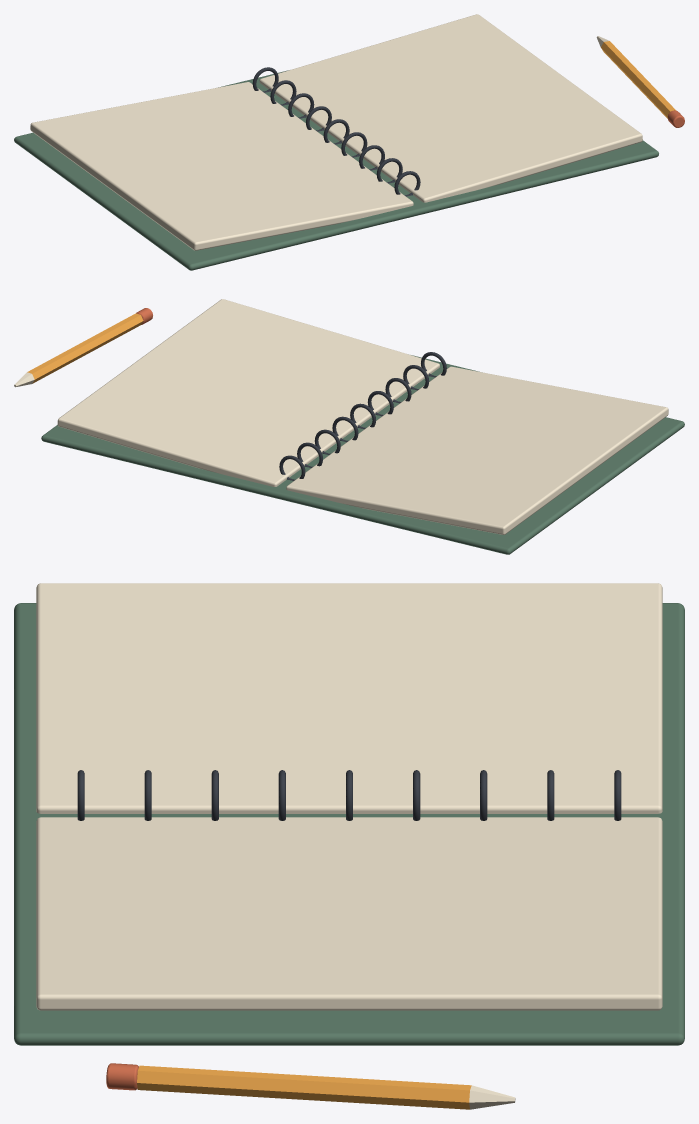
File: sketchbook.glb
3 views of the same model, one above another, from view 1: azimuth 30°, elevation 25°; view 2: azimuth 150°, elevation 25°; view 3: azimuth 270°, elevation 25° (orthographic). The views are drawn at different scales.
Visible parts, largest first — view 1: SketchPages.001, PageLeft, SketchCover, SketchPages, PencilBody; view 2: SketchPages.001, PageLeft, SketchCover, SketchPages, PencilBody; view 3: PageLeft, SketchPages.001, SketchCover, SketchPages, PencilBody, PencilEraser.
Part boxes in pixels (<box>): SketchPages.001: <box>259,14,642,202</box>; PageLeft: <box>42,84,401,237</box>; SketchCover: <box>14,70,658,270</box>; SketchPages: <box>30,82,413,250</box>; PencilBody: <box>601,41,675,118</box>; SketchPages.001: <box>57,299,439,486</box>; PageLeft: <box>298,369,656,521</box>; SketchCover: <box>41,355,684,554</box>; SketchPages: <box>286,366,668,534</box>; PencilBody: <box>27,313,143,383</box>; PageLeft: <box>53,587,645,797</box>; SketchPages.001: <box>36,817,662,1010</box>; SketchCover: <box>14,603,684,1045</box>; SketchPages: <box>36,583,662,813</box>; PencilBody: <box>137,1065,471,1109</box>; PencilEraser: <box>106,1063,138,1090</box>.
Bounding box in the file's own units: 0.5309 × 0.0286 × 0.3.
